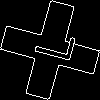L: (25, 25, 76, 64)
